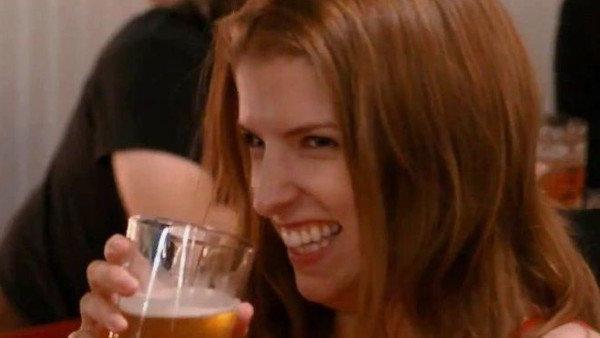Drunk: (239, 60, 374, 307)
